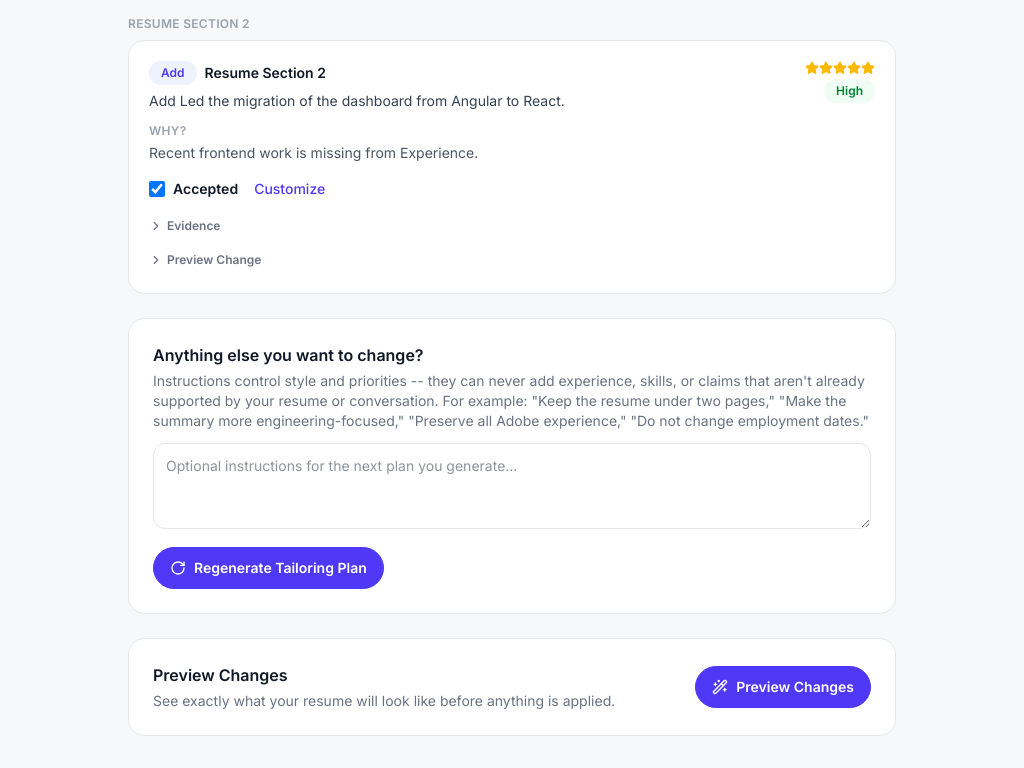
TailoredResumePage: preview-first workflow (Preview Changes then Apply Now) › shows the final resume preview and applied-changes summary only after Apply Now is confirmed
(page scrolled)
Click the button "Preview Changes": (783, 687) [695, 666, 871, 708]
(page scrolled)
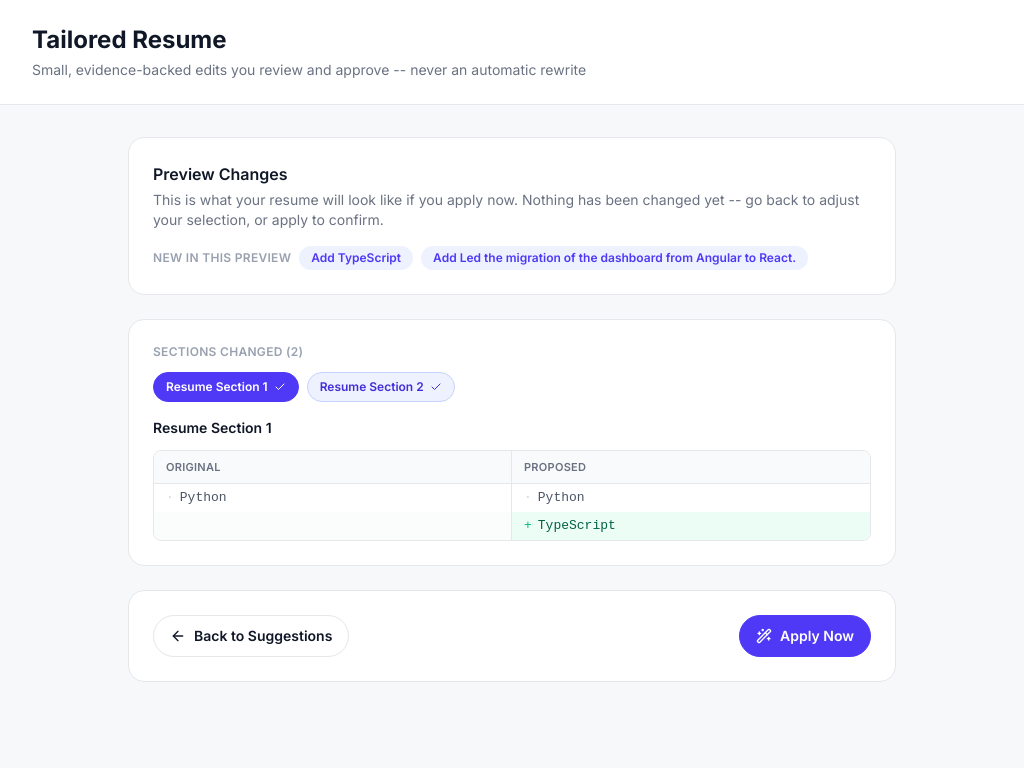
Result: the button "Apply Now" is shown
Click the button "Apply Now": (805, 636) [739, 615, 871, 657]
(page scrolled)
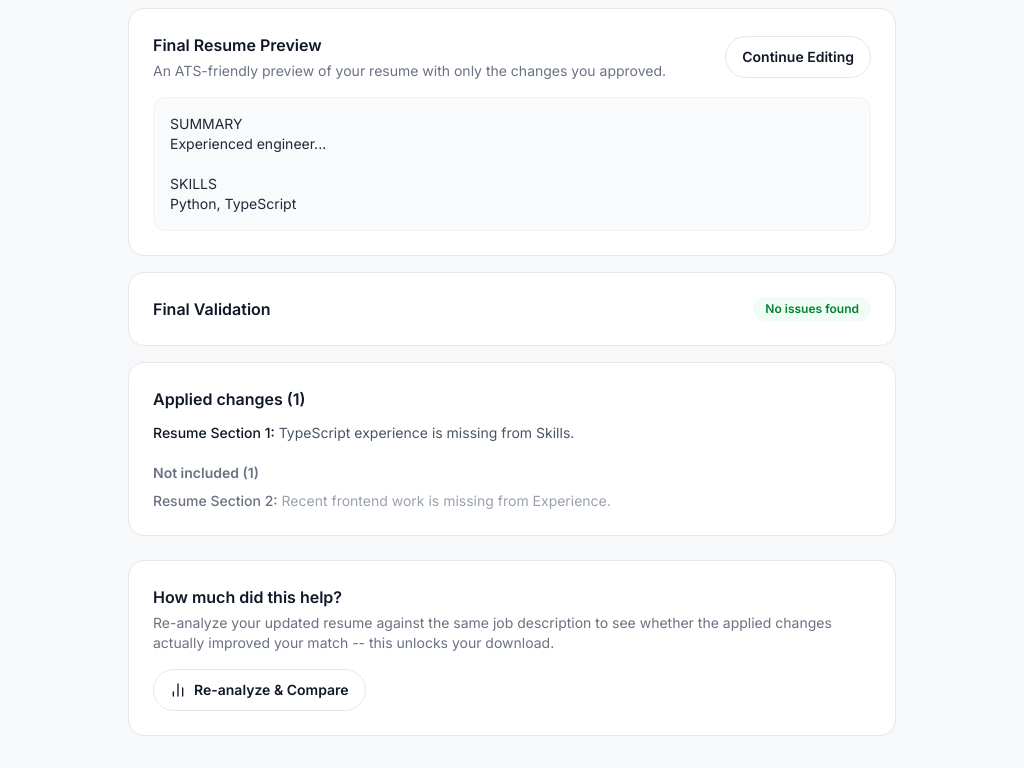
Result: the heading "Final Resume Preview" is shown at [153, 35, 322, 55]
Result: the heading "Applied changes (1)" is shown at [153, 389, 306, 409]
Result: the heading "Not included (1)" is shown at [153, 464, 259, 481]
